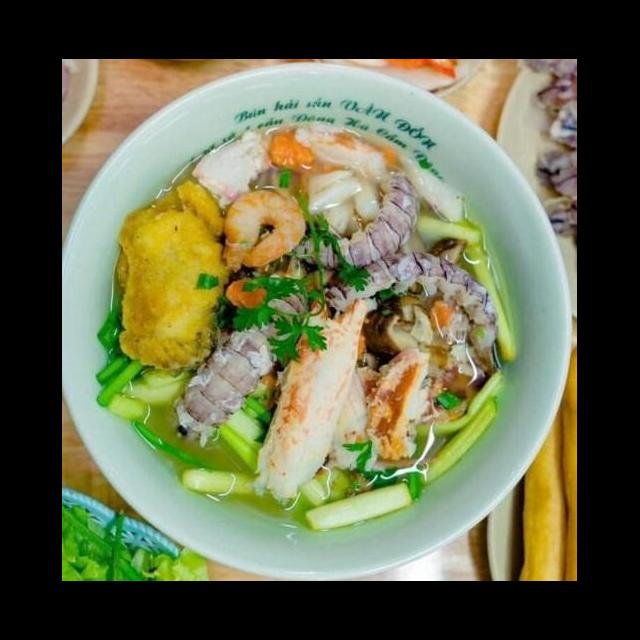ca: (114, 175, 235, 374)
tom: (214, 184, 310, 275)
tom tit: (160, 261, 314, 450), (318, 244, 504, 360), (272, 164, 428, 273)
